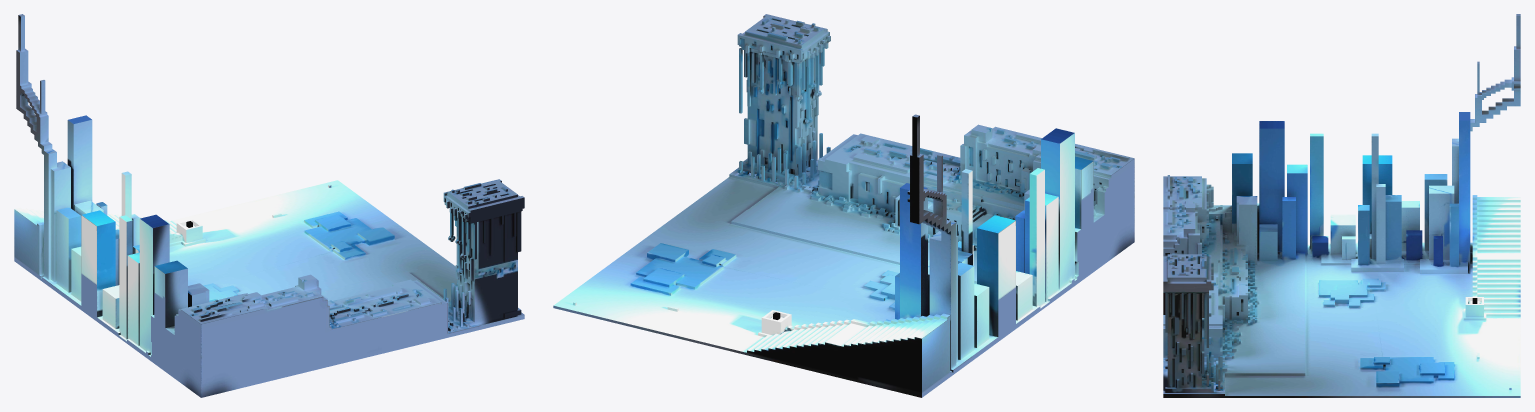
File: castle-entry-left-com.glb
The picture shows the model from 3 angles, left to right: view 1: azimuth 30°, elevation 25°; view 2: azimuth 150°, elevation 25°; view 3: azimuth 270°, elevation 25°; orthographic projection. The views are drawn at different scales.
Visible parts, largest first — view 1: more_nfts_ice; view 2: more_nfts_ice; view 3: more_nfts_ice.
Part boxes in pixels (<box>): more_nfts_ice: <box>14,14,524,397</box>; more_nfts_ice: <box>553,14,1134,397</box>; more_nfts_ice: <box>1163,14,1520,397</box>.
Bounding box in the file's own units: 156 × 113 × 156.
Materials: 1 (1 with a texture image).
